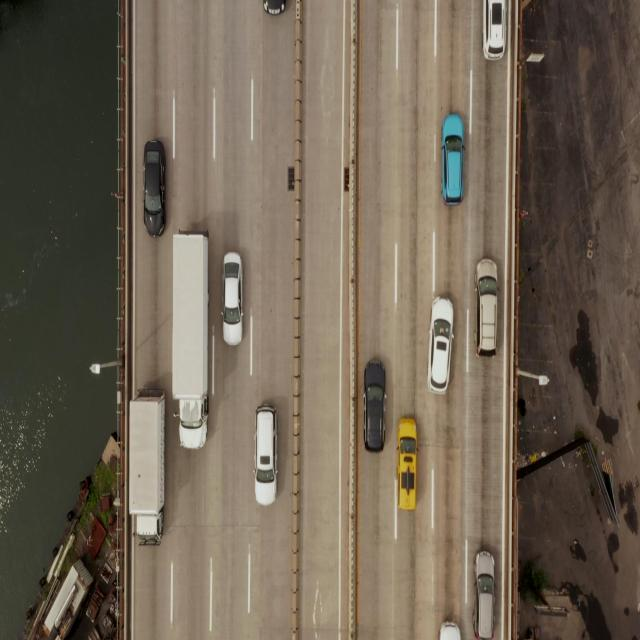Car: (426, 292, 455, 400), (362, 356, 388, 456), (440, 111, 467, 207), (395, 416, 421, 513), (474, 256, 498, 360), (254, 406, 278, 509), (142, 138, 166, 239), (472, 546, 497, 640), (221, 252, 245, 346), (480, 0, 509, 61)
Truck: (170, 228, 212, 451), (128, 384, 167, 547)
